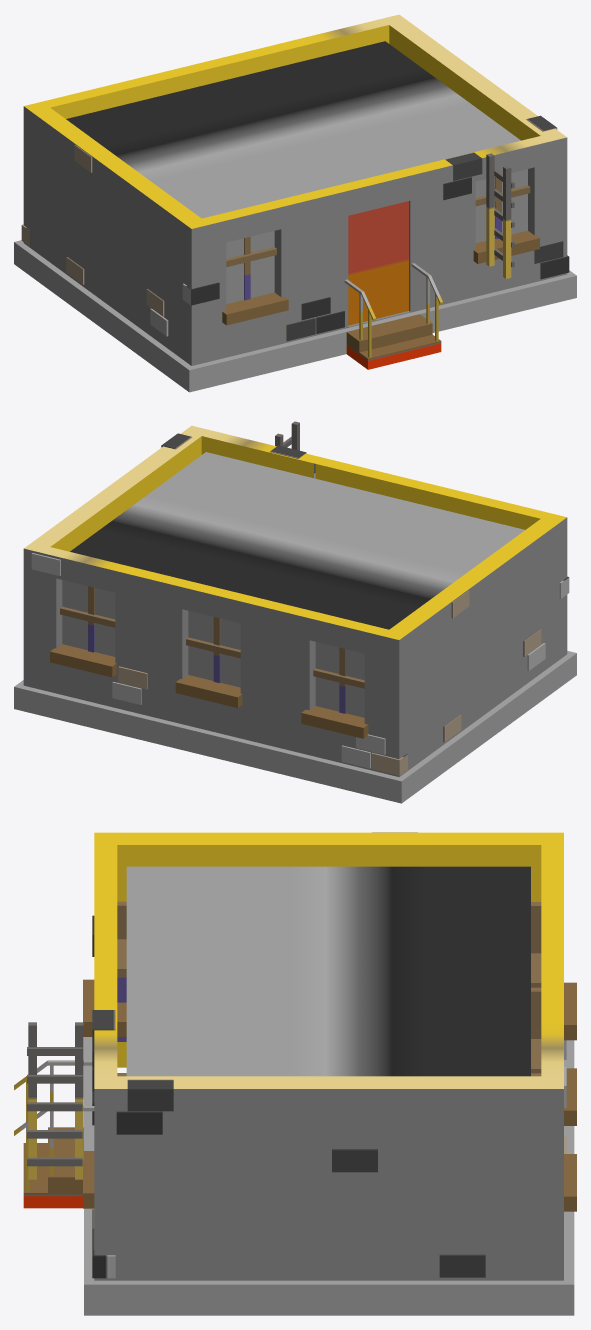
Rendered from House3_bot.fbx.
3 views of the same model, one above another, from view 1: azimuth 30°, elevation 25°; view 2: azimuth 150°, elevation 25°; view 3: azimuth 270°, elevation 25° (orthographic). The views are drawn at different scales.
Parts seen in each view (by area): view 1: polySurface299, polySurface301, polySurface153, polySurface369, polySurface163, polySurface184, polySurface254, polySurface263, polySurface261, polySurface259, polySurface262, polySurface260 (+2 smaller); view 2: polySurface299, polySurface301, polySurface208, polySurface196, polySurface220, polySurface274, polySurface273, polySurface271, polySurface268, polySurface272, polySurface198, polySurface210; view 3: polySurface299, polySurface301, polySurface369, polySurface153, polySurface278, polySurface285, polySurface279, polySurface286, polySurface163, polySurface220, polySurface196, polySurface164 (+2 smaller).
Boxes of the visible parts, x1,y1,x2,y2 form: polySurface299: (14,14,576,392); polySurface301: (66,41,520,218); polySurface153: (346,314,441,369); polySurface369: (486,153,514,278); polySurface163: (222,292,288,325); polySurface184: (473,230,539,263); polySurface254: (445,152,482,180); polySurface263: (182,282,219,305); polySurface261: (286,318,315,341); polySurface259: (540,255,569,279); polySurface262: (301,297,330,320); polySurface260: (316,311,344,333); polySurface299: (14,425,576,803); polySurface301: (70,452,524,629); polySurface208: (175,675,242,707); polySurface196: (50,644,116,677); polySurface220: (301,706,368,738); polySurface274: (371,752,407,775); polySurface273: (341,745,370,768); polySurface271: (118,666,147,689); polySurface268: (31,553,60,575); polySurface272: (112,682,141,704); polySurface198: (60,606,115,627); polySurface210: (186,637,240,658); polySurface299: (84,832,574,1315); polySurface301: (126,866,530,1076); polySurface369: (27,1022,83,1179); polySurface153: (23,1127,83,1208); polySurface278: (127,1079,173,1111); polySurface285: (439,1254,485,1277); polySurface279: (116,1111,162,1134); polySurface286: (332,1149,377,1172); polySurface163: (83,979,126,1036); polySurface220: (564,982,576,1040); polySurface196: (564,1154,576,1211); polySurface164: (117,901,126,1041).
Bounding box in the file's own units: 1400 × 571 × 1259.
